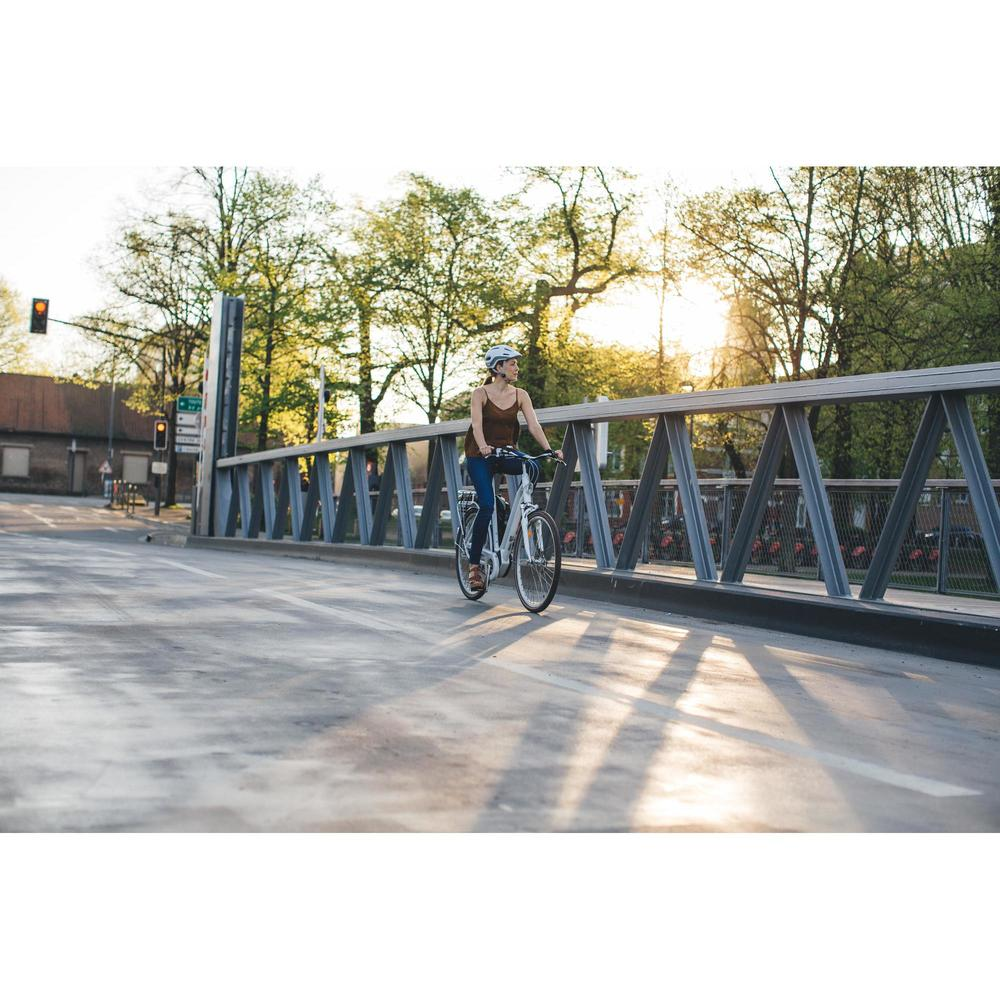UrbanBike: (444, 444, 570, 623)
